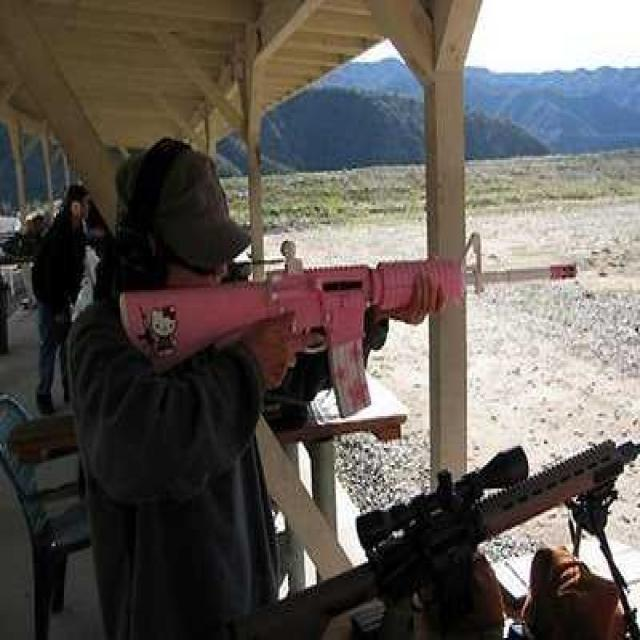heavyweapon: (111, 201, 601, 447)
